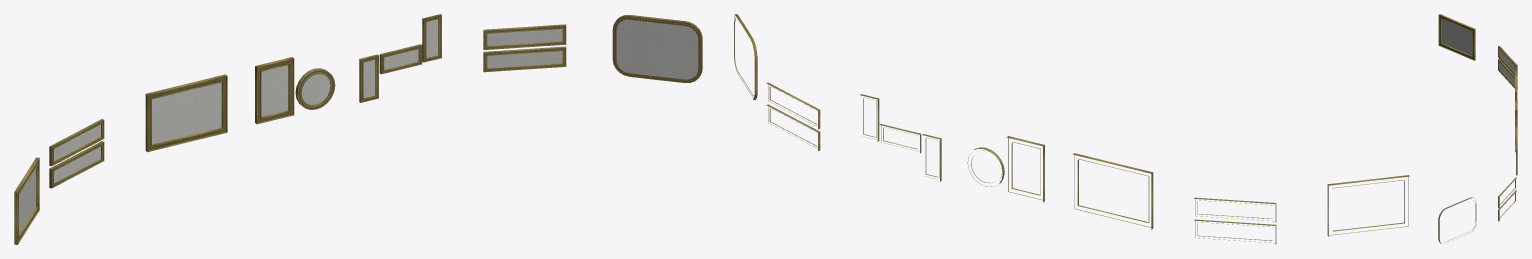
Rendered from center-frame-set.glb.
3 renders of one model, left to right at view 1: azimuth 30°, elevation 25°; view 2: azimuth 150°, elevation 25°; view 3: azimuth 270°, elevation 25°, orthographic. The views are drawn at different scales.
Parts seen in each view (by area): view 1: CenterFrameset; view 2: CenterFrameset; view 3: CenterFrameset.
Part boxes in pixels (<box>): CenterFrameset: <box>14,14,702,244</box>; CenterFrameset: <box>734,14,1409,244</box>; CenterFrameset: <box>1438,14,1517,244</box>.
Bounding box in the file's own units: 26.56 × 2.56 × 4.49.
Materials: 1 (1 with a texture image).
